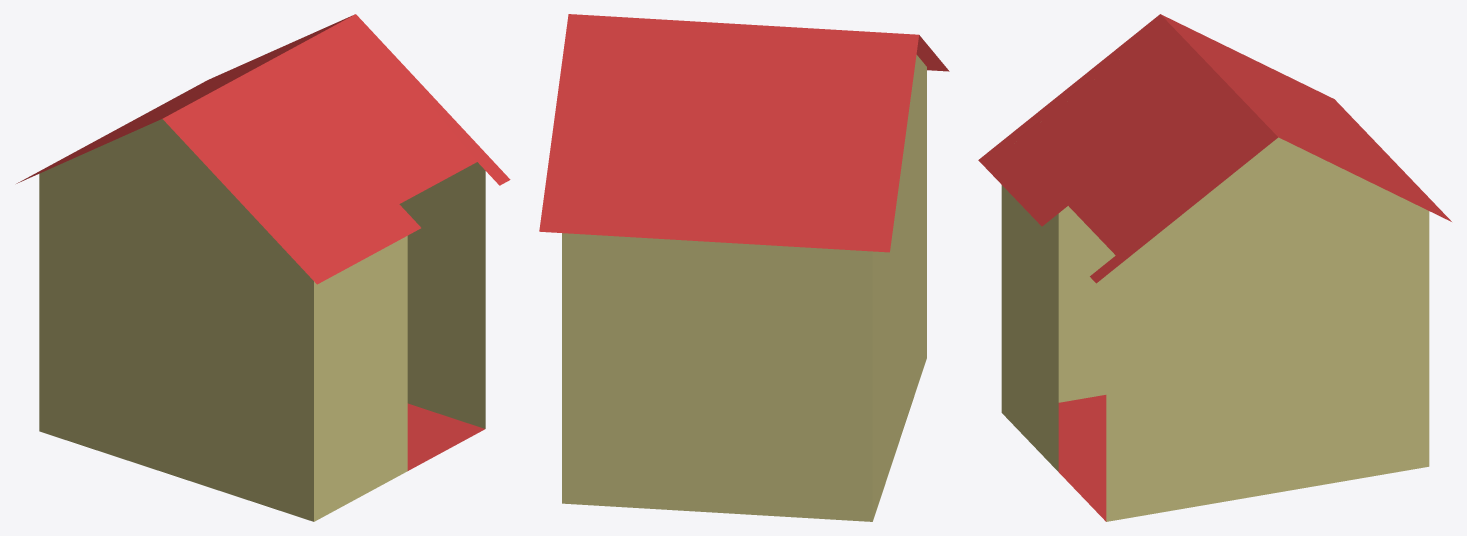
The picture shows the model from 3 angles, left to right: view 1: azimuth 30°, elevation 25°; view 2: azimuth 150°, elevation 25°; view 3: azimuth 270°, elevation 25°; orthographic projection. The views are drawn at different scales.
Size of the model in its own units: 12.17 by 13.24 by 11.18.
